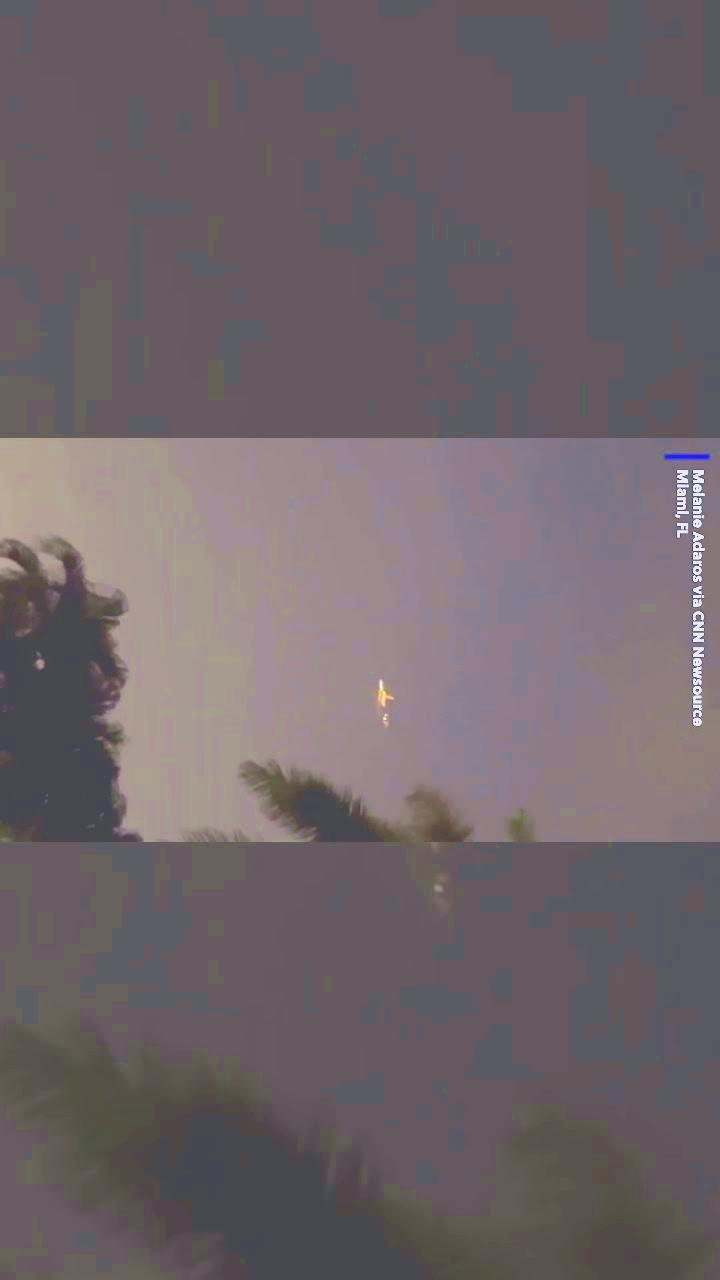Plane: (360, 668, 409, 739)
